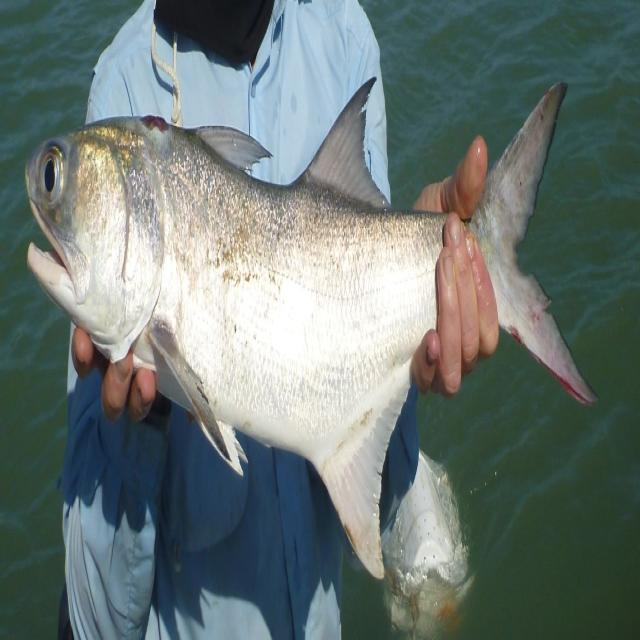Fourfinger-Threadfin: (13, 41, 620, 624)
